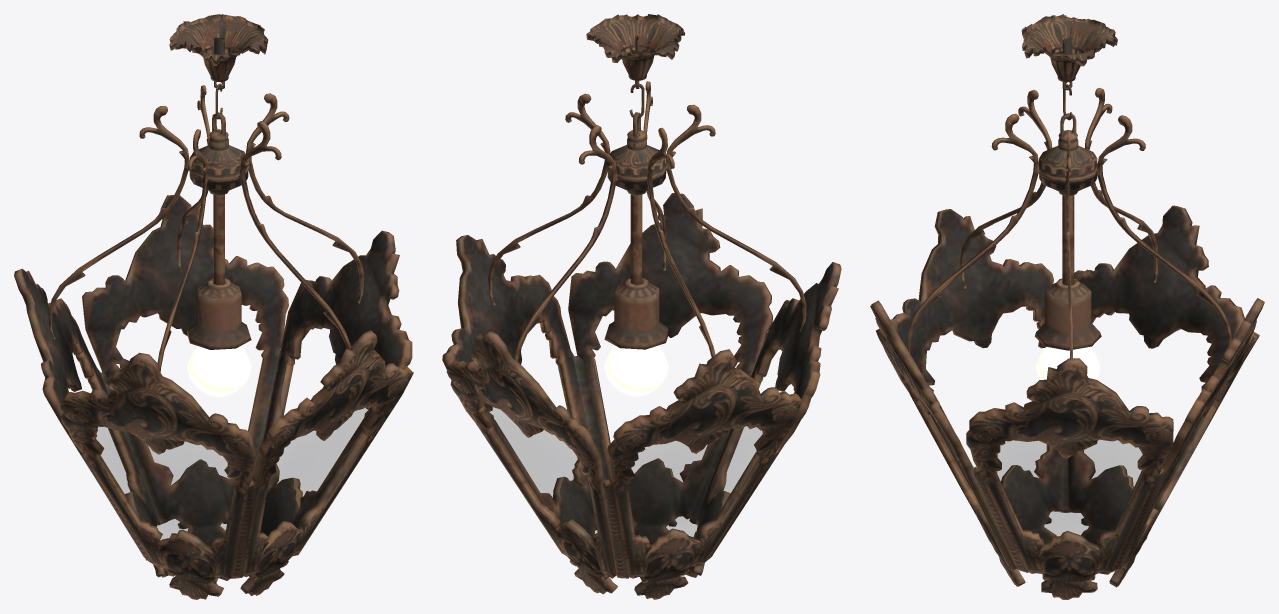
Rendered from lantern_chandelier_01.glb.
3 renders of one model, left to right at view 1: azimuth 30°, elevation 25°; view 2: azimuth 150°, elevation 25°; view 3: azimuth 270°, elevation 25°, orthographic.
Visible parts, largest first — view 1: lantern_chandelier_01; view 2: lantern_chandelier_01; view 3: lantern_chandelier_01.
Part boxes in pixels (x1,y1,x2,y2): lantern_chandelier_01: [14, 14, 413, 599]; lantern_chandelier_01: [442, 14, 841, 599]; lantern_chandelier_01: [870, 14, 1264, 599].
Bounding box in the file's own units: 0.5792 × 0.8776 × 0.5746.
Materials: 3 (2 with a texture image).
